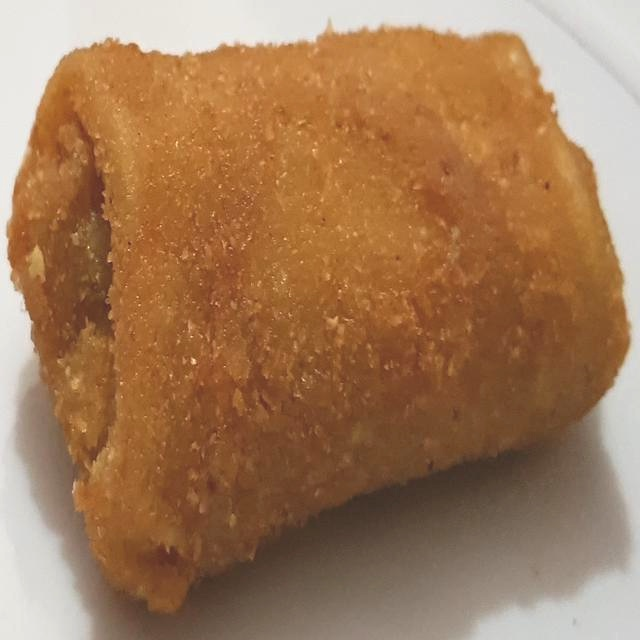Chicken Rolls: (5, 25, 632, 618)
